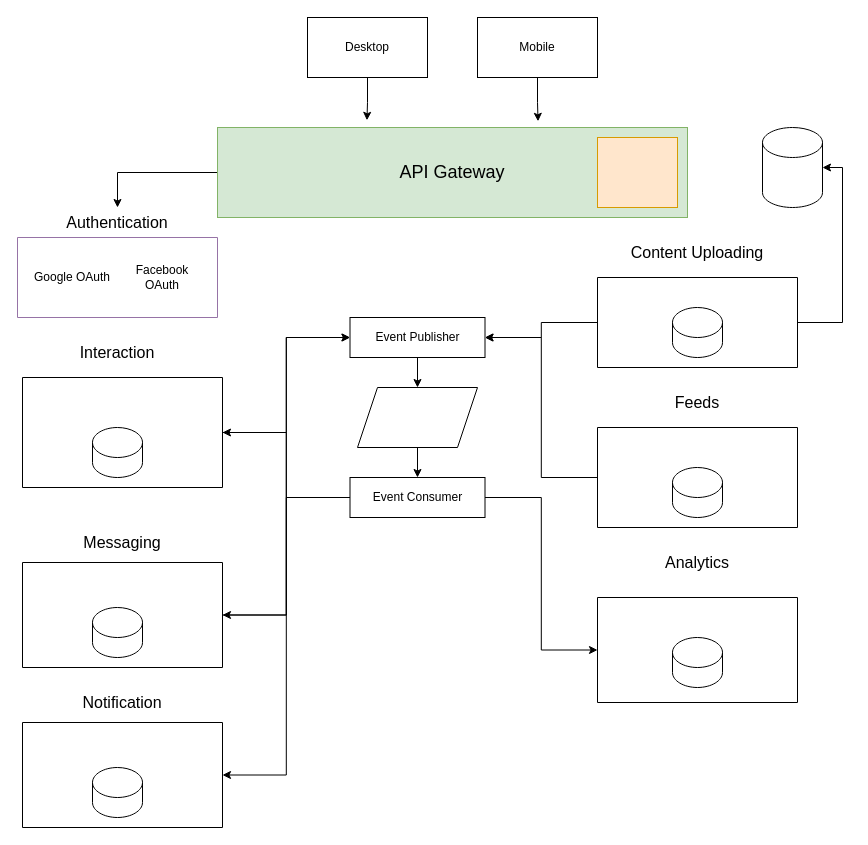
Some shapes in this 868 by 845 pixel diagram are drawn without their labels. Here are the shapes that lost their labels. From the top down, the centre of each, then its label:
[637,172]: Service Registry
[792,167]: Google Firestore
[417,417]: Kafka Message Broker
